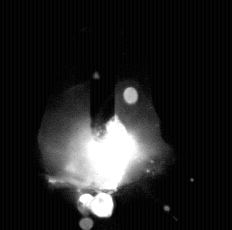arame: (91, 0, 117, 136)
poca: (37, 0, 164, 230)
